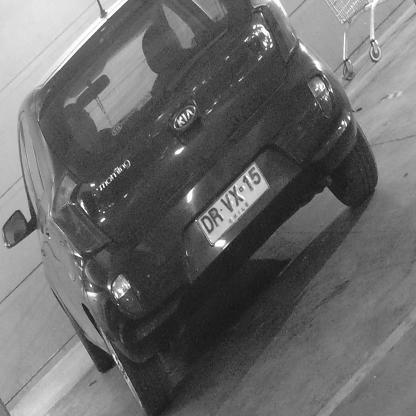Patente: (197, 162, 270, 244)
